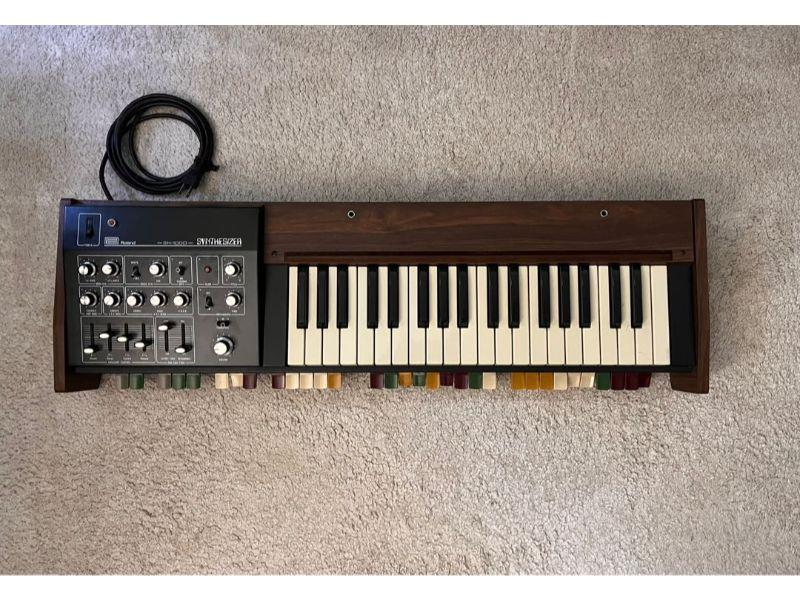synthesizer: (38, 184, 721, 411)
